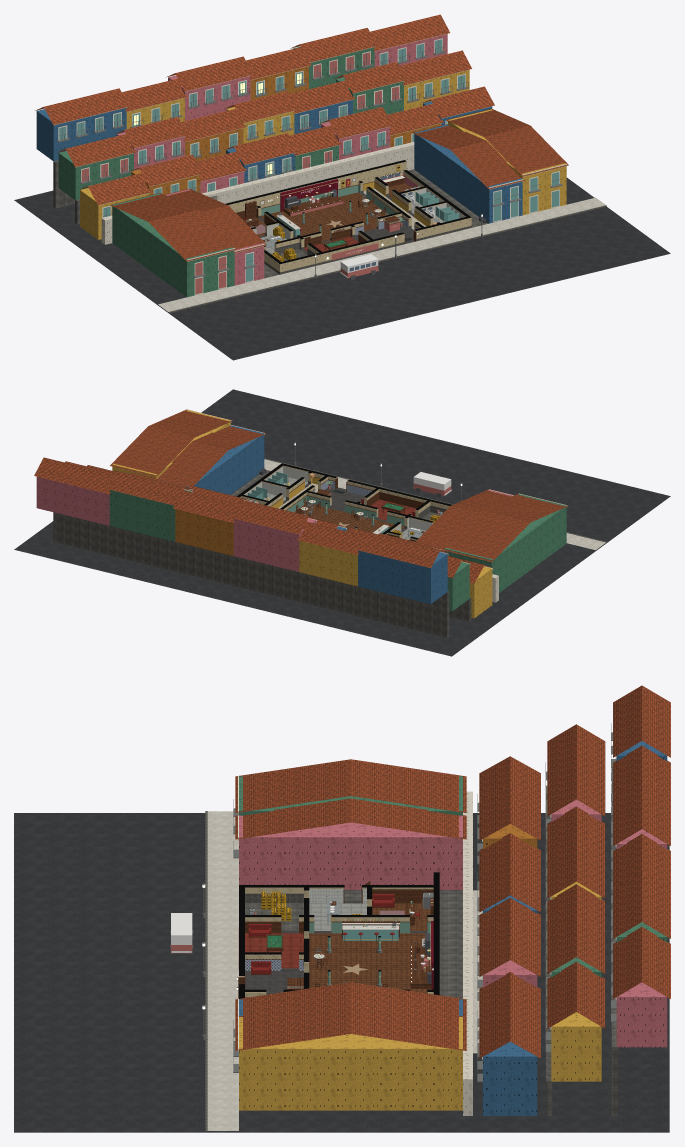
The model's file is lavradio.glb.
3 renders of one model, top to bottom at view 1: azimuth 30°, elevation 25°; view 2: azimuth 150°, elevation 25°; view 3: azimuth 270°, elevation 25°, orthographic. The views are drawn at different scales.
Parts seen in each view (by area): view 1: Lapa_asphalt, Lapa_roof, Lapa_side_roof, Lapa_teal, Lapa_side_facade_green, Lapa_facade_pink, Lapa_pedra, Lapa_facade_green, Lapa_plaster, Lapa_facade_yellow, Lapa_side_facade_blue, Lapa_facade_blue (+18 smaller); view 2: Lapa_asphalt, Lapa_concrete, Lapa_side_roof, Lapa_roof, Lapa_facade_pink, Lapa_side_facade_green, Lapa_facade_blue, Lapa_facade_green, Lapa_facade_yellow, Lapa_side_facade_blue, Lapa_ochre, Lapa_plaster (+9 smaller); view 3: Lapa_asphalt, Lapa_roof, Lapa_side_roof, Lapa_side_facade_yellow, Lapa_side_facade_pink, Lapa_pedra, Lapa_concrete, Lapa_tacos, Lapa_facade_pink, Lapa_facade_blue, Lapa_facade_yellow, Lapa_cap (+11 smaller).
Part boxes in pixels (x1,y1,x2,y2): Lapa_asphalt: [14, 169, 670, 360]; Lapa_roof: [35, 14, 494, 205]; Lapa_side_roof: [110, 109, 568, 261]; Lapa_teal: [59, 39, 465, 236]; Lapa_side_facade_green: [112, 193, 234, 297]; Lapa_facade_pink: [117, 34, 447, 193]; Lapa_pedra: [158, 197, 605, 311]; Lapa_facade_green: [58, 46, 403, 200]; Lapa_plaster: [228, 161, 471, 272]; Lapa_facade_yellow: [80, 70, 469, 239]; Lapa_side_facade_blue: [414, 124, 522, 223]; Lapa_facade_blue: [36, 100, 492, 182]; Lapa_asphalt: [14, 389, 670, 656]; Lapa_concrete: [53, 458, 606, 637]; Lapa_side_roof: [110, 409, 568, 562]; Lapa_roof: [34, 457, 493, 583]; Lapa_facade_pink: [36, 476, 316, 571]; Lapa_side_facade_green: [444, 494, 566, 592]; Lapa_facade_blue: [336, 526, 447, 604]; Lapa_facade_green: [109, 489, 469, 611]; Lapa_facade_yellow: [271, 477, 492, 618]; Lapa_side_facade_blue: [162, 425, 264, 494]; Lapa_ochre: [175, 509, 233, 555]; Lapa_plaster: [240, 465, 449, 540]; Lapa_asphalt: [14, 813, 669, 1132]; Lapa_roof: [479, 685, 670, 1058]; Lapa_side_roof: [235, 759, 466, 1050]; Lapa_side_facade_yellow: [239, 1017, 462, 1110]; Lapa_side_facade_pink: [239, 815, 462, 889]; Lapa_pedra: [207, 811, 482, 1130]; Lapa_concrete: [205, 767, 617, 1130]; Lapa_tacos: [309, 903, 431, 993]; Lapa_facade_pink: [483, 799, 667, 1047]; Lapa_facade_blue: [483, 741, 667, 1115]; Lapa_facade_yellow: [551, 881, 601, 1081]; Lapa_cap: [239, 872, 439, 998].
Size of the model in its own units: 60 by 12.66 by 52.1.
82 materials, 33 textured.
